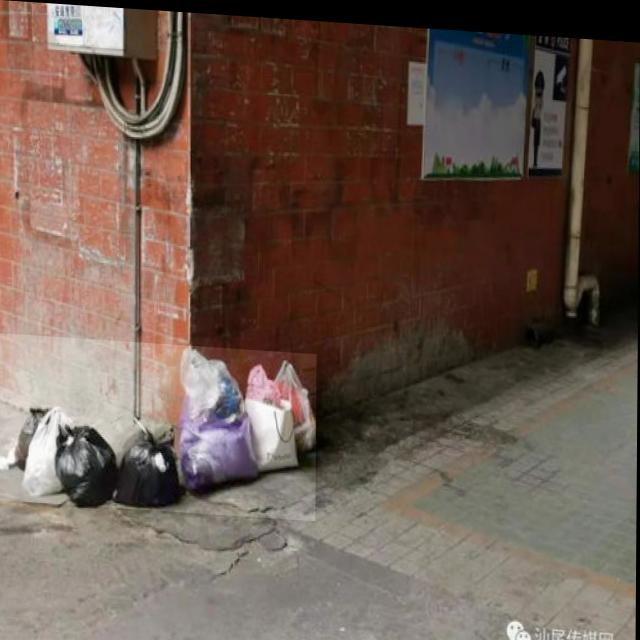garbage: (0, 333, 317, 517)
